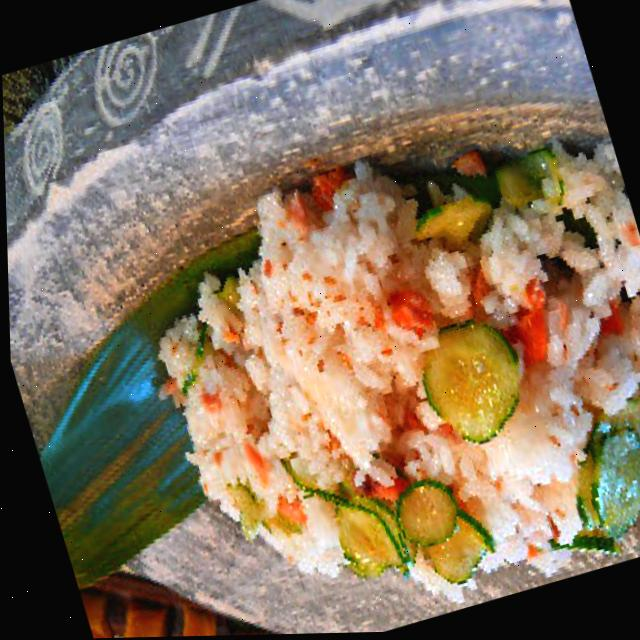寿司卷物: (95, 74, 640, 638)
